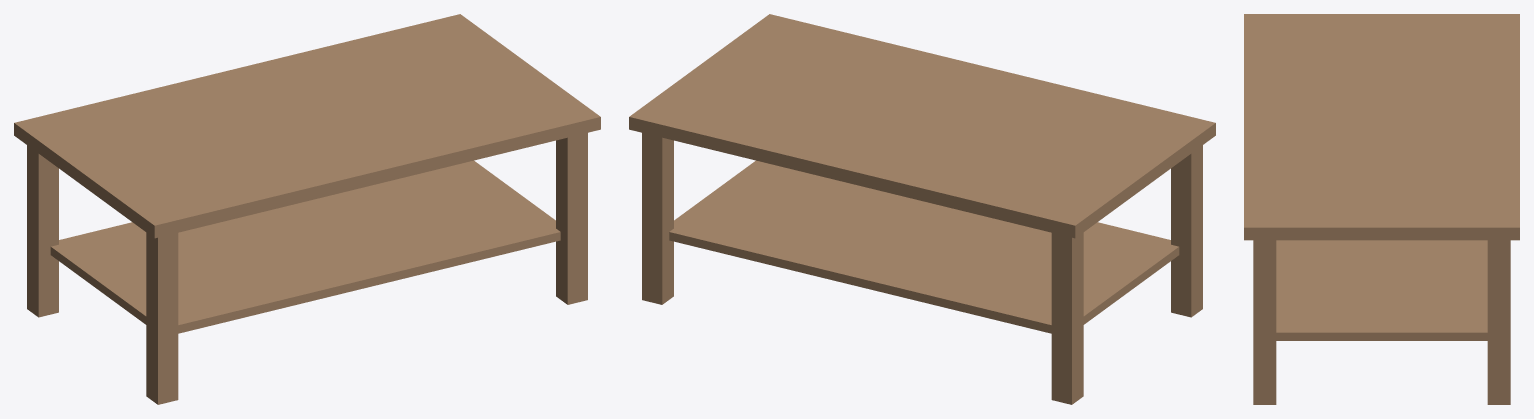
Rendered from furniture.table.coffee.glb.
The picture shows the model from 3 angles, left to right: view 1: azimuth 30°, elevation 25°; view 2: azimuth 150°, elevation 25°; view 3: azimuth 270°, elevation 25°; orthographic projection.
Visible parts, largest first — view 1: main__hardwood; view 2: main__hardwood; view 3: main__hardwood.
Part boxes in pixels (box(x1,y1,x2,y2)): main__hardwood: box(14, 14, 600, 404); main__hardwood: box(629, 14, 1215, 404); main__hardwood: box(1244, 14, 1519, 404).
Bounding box in the file's own units: 1.1 × 0.435 × 0.6.
